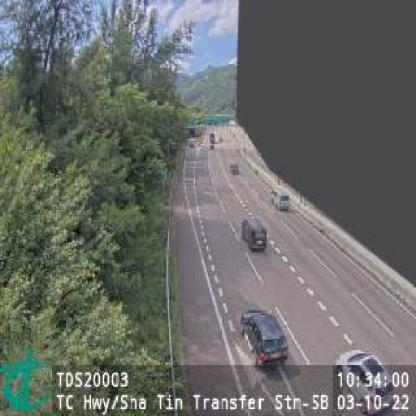Car: (239, 309, 287, 362), (241, 218, 265, 252), (270, 189, 288, 208), (227, 163, 238, 175)
